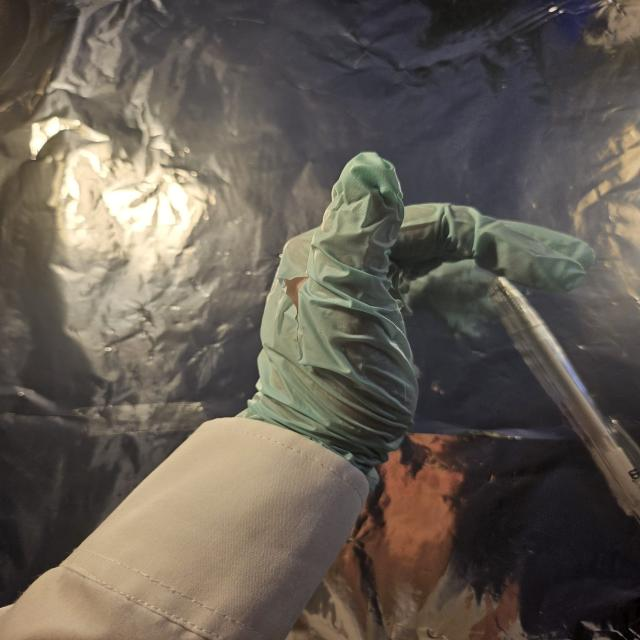gloves_damaged: (240, 142, 607, 464)
